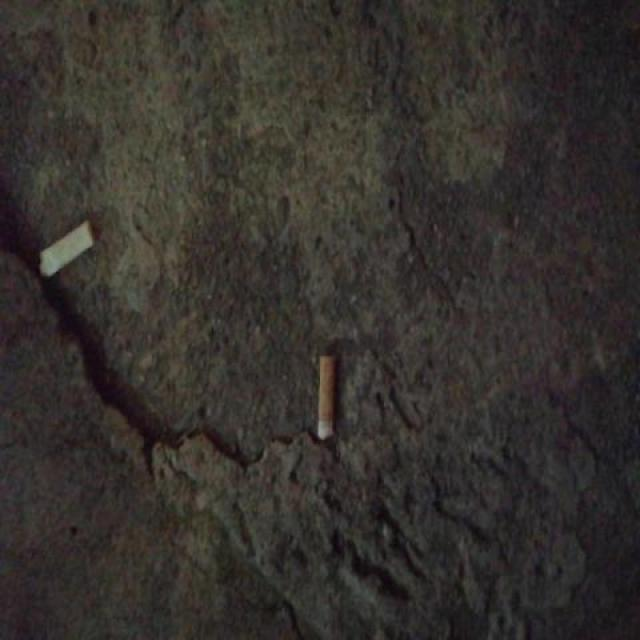non-organic waste: (35, 215, 98, 284), (313, 348, 340, 444)
